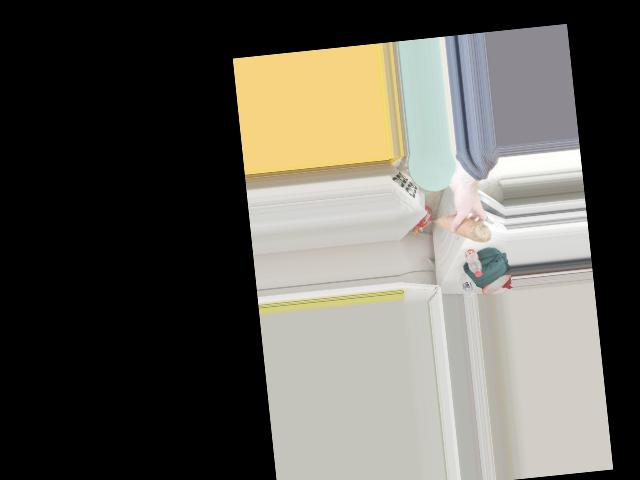sweet_potato: (437, 206, 489, 248)
